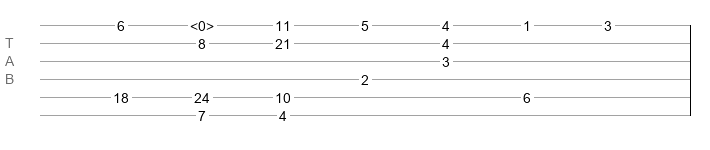1: (523, 18, 531, 28)
10: (275, 90, 291, 100)
11: (275, 18, 291, 28)
18: (113, 90, 129, 100)
2: (361, 72, 369, 82)
21: (275, 36, 291, 46)
24: (194, 90, 210, 100)
3: (442, 54, 450, 64), (604, 18, 612, 28)
4: (279, 108, 287, 118), (442, 18, 450, 28), (442, 36, 450, 46)
5: (361, 18, 369, 28)
6: (117, 18, 125, 28), (523, 90, 531, 100)
7: (198, 108, 206, 118)
8: (198, 36, 206, 46)
harmonic: (190, 18, 214, 28)
